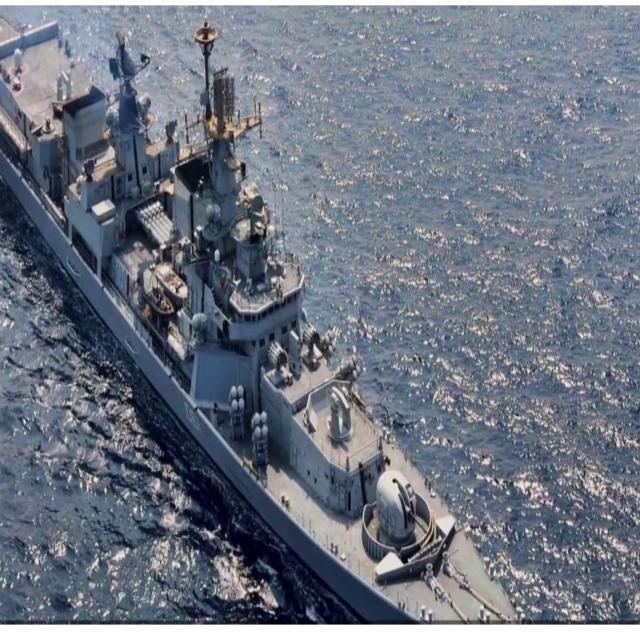OCR: (181, 396, 208, 444)
